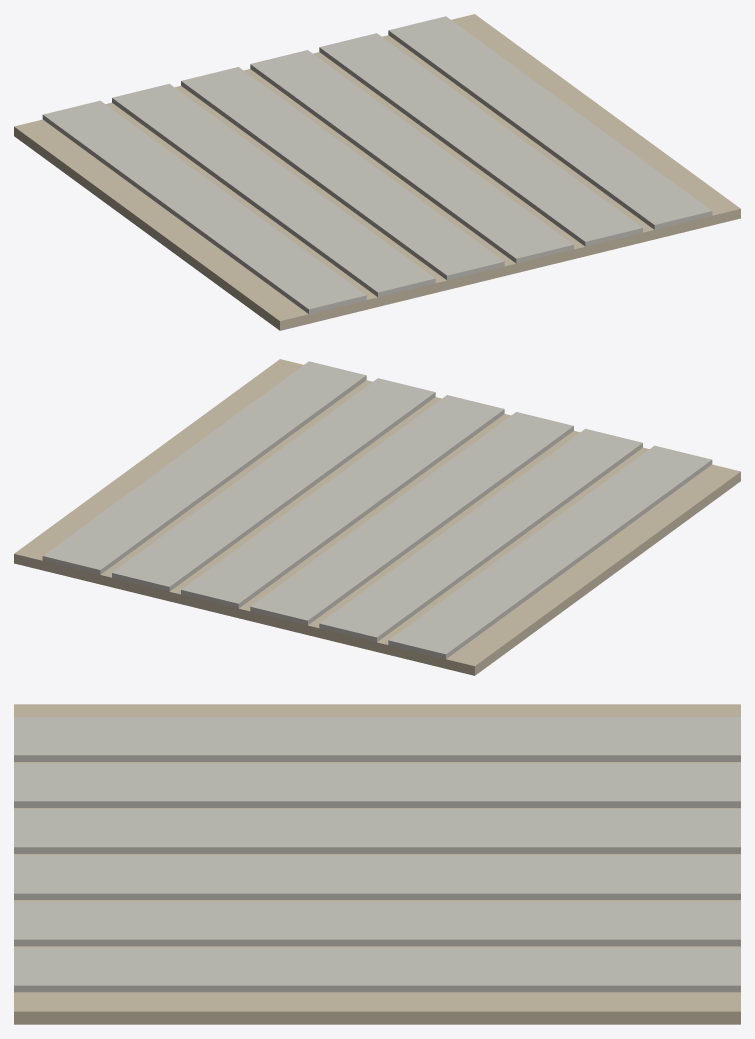
Rendered from feudal-japan-castle-town-stone-market-road-e9aee88a__26534.glb.
3 views of the same model, one above another, from view 1: azimuth 30°, elevation 25°; view 2: azimuth 150°, elevation 25°; view 3: azimuth 270°, elevation 25° (orthographic). The views are drawn at different scales.
Parts seen in each view (by area): view 1: stone-market-road; view 2: stone-market-road; view 3: stone-market-road.
Part boxes in pixels (x1,y1,x2,y2): stone-market-road: (14, 14, 740, 330); stone-market-road: (14, 359, 740, 675); stone-market-road: (14, 704, 740, 1024).
Size of the model in its own units: 4 by 0.1201 by 4.
